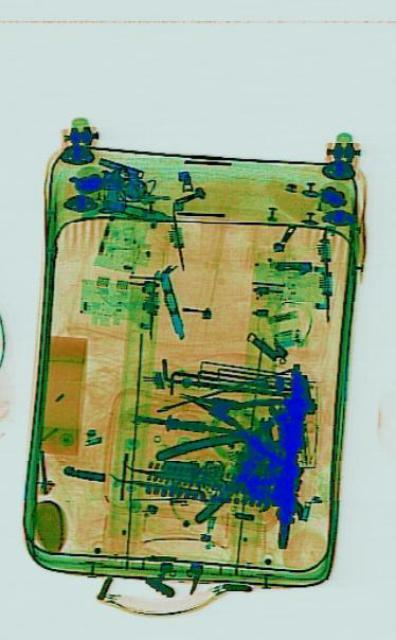Pliers: (171, 359, 289, 465)
